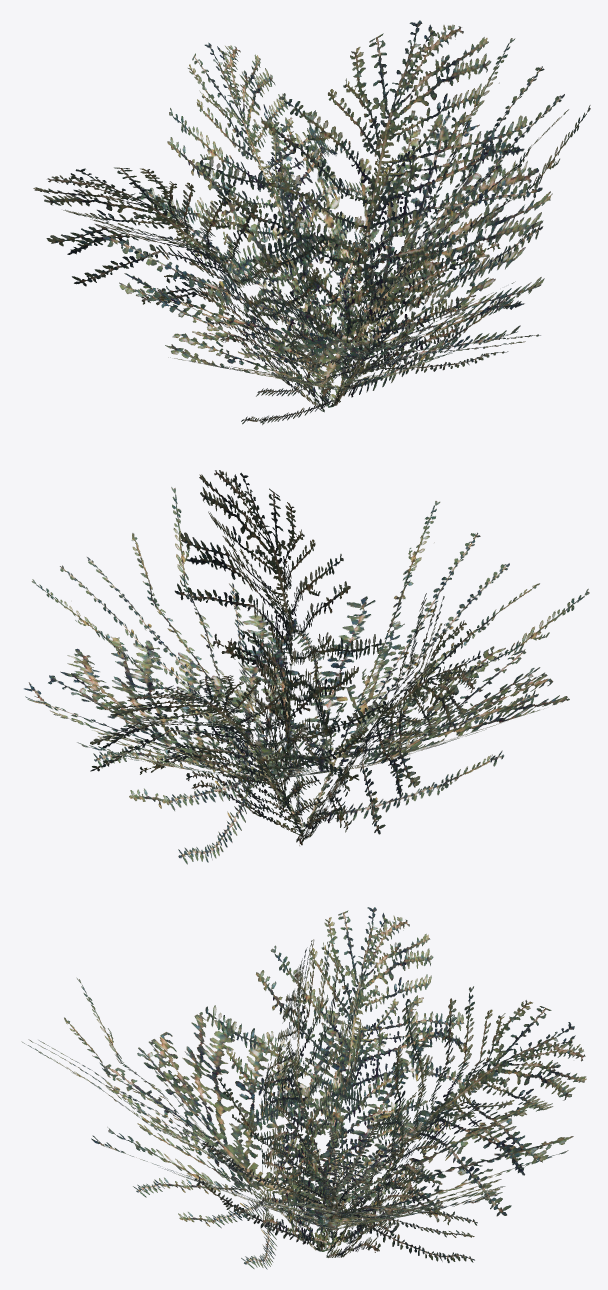
The model's file is Lonicera_1_standard-res-DESKTOP-2OCMI3Q.FBX.
3 views of the same model, one above another, from view 1: azimuth 30°, elevation 25°; view 2: azimuth 150°, elevation 25°; view 3: azimuth 270°, elevation 25° (orthographic). The views are drawn at different scales.
Parts seen in each view (by area): view 1: VB_Lonicera_3_standard-res; view 2: VB_Lonicera_3_standard-res; view 3: VB_Lonicera_3_standard-res.
Boxes of the visible parts, x1,y1,x2,y2 form: VB_Lonicera_3_standard-res: (33, 20, 590, 424); VB_Lonicera_3_standard-res: (23, 470, 589, 864); VB_Lonicera_3_standard-res: (21, 907, 586, 1269).
Bounding box in the file's own units: 2.02 × 1.51 × 2.26.
3 materials, 3 textured.
